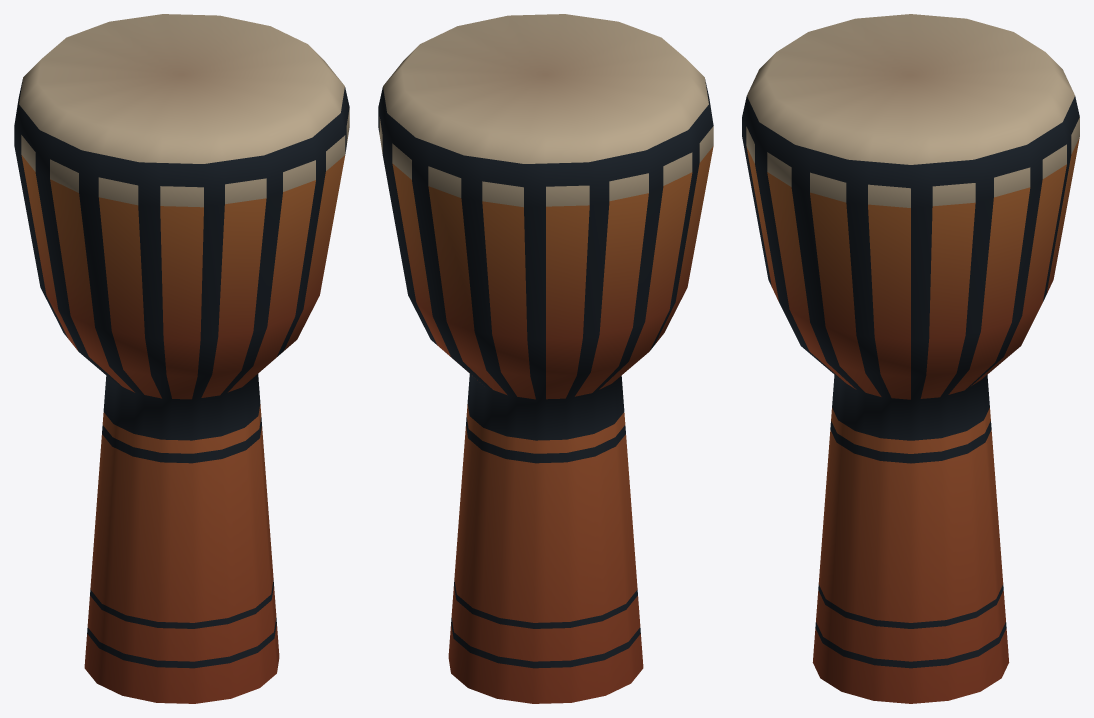
File: human-music-djembe_v1.glb
3 renders of one model, left to right at view 1: azimuth 30°, elevation 25°; view 2: azimuth 150°, elevation 25°; view 3: azimuth 270°, elevation 25°, orthographic.
Parts seen in each view (by area): view 1: Djembe; view 2: Djembe; view 3: Djembe.
Part boxes in pixels (x1,y1,x2,y2): Djembe: [14, 14, 349, 703]; Djembe: [378, 14, 713, 703]; Djembe: [742, 14, 1079, 703].
Bounding box in the file's own units: 0.3129 × 0.6 × 0.3129.
